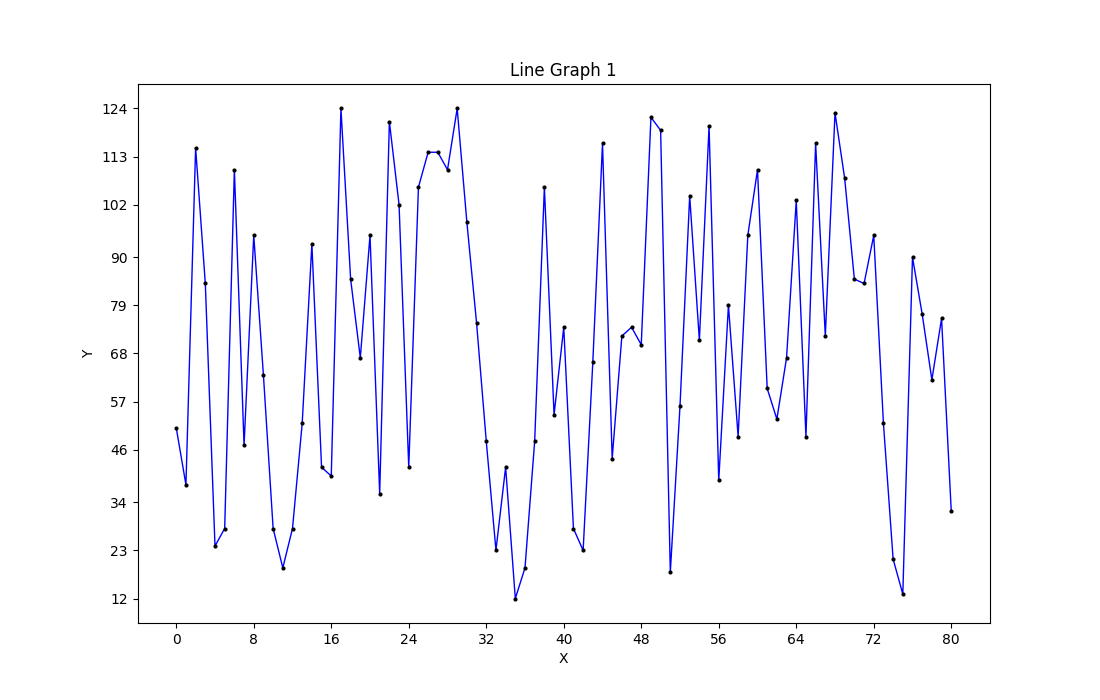cvs: (138, 84, 990, 623)
